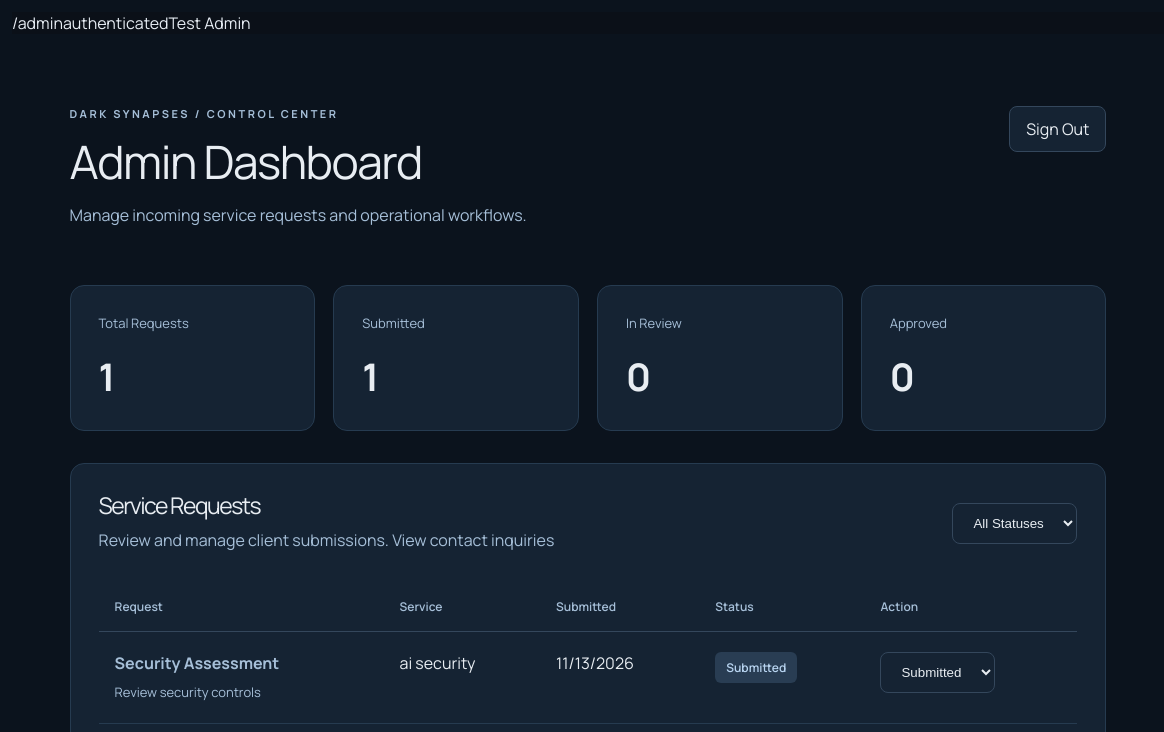
Test case: AdminDashboardPage stale PATCH › ignores a PATCH response after session invalidation
Expected: the text "Security Assessment" is shown, [115,652,279,674]
Select "In Review" in the dropdown named "Update Security Assessment status" at (938, 673), box [880,652,995,693]
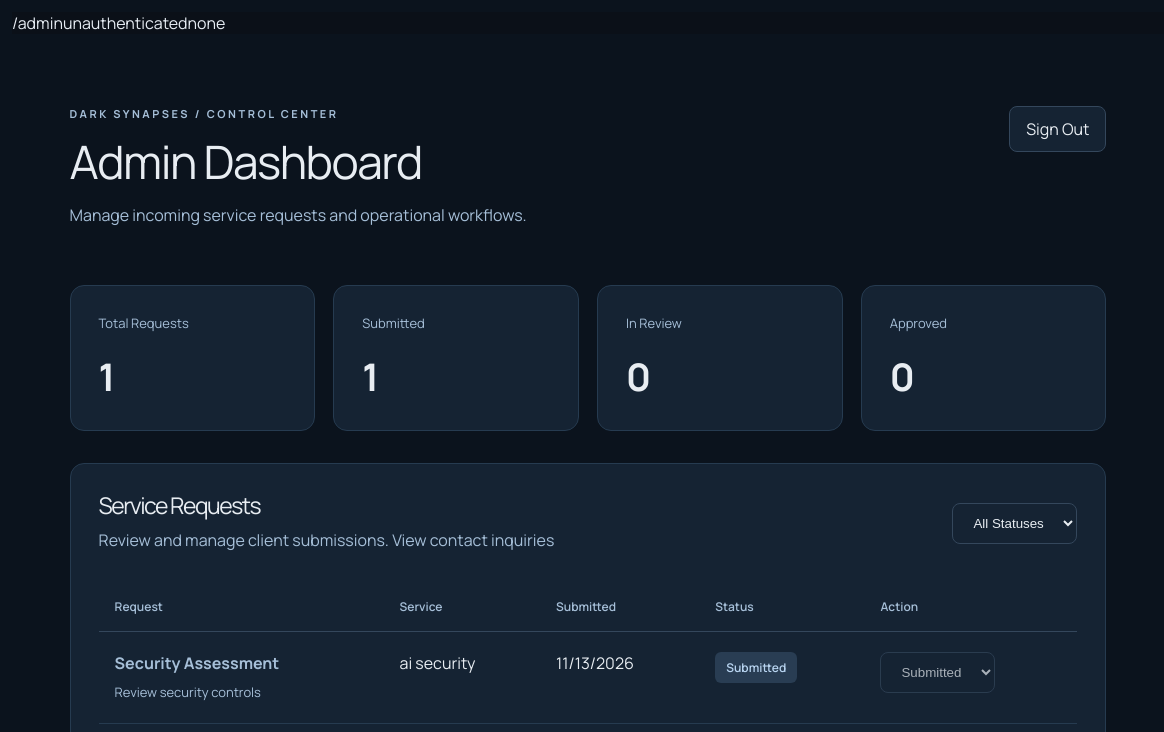
Expected: the text with test id "status" reads "unauthenticated", [63,12,188,34]
Expected: the text with test id "user" reads "none", [188,12,225,34]
